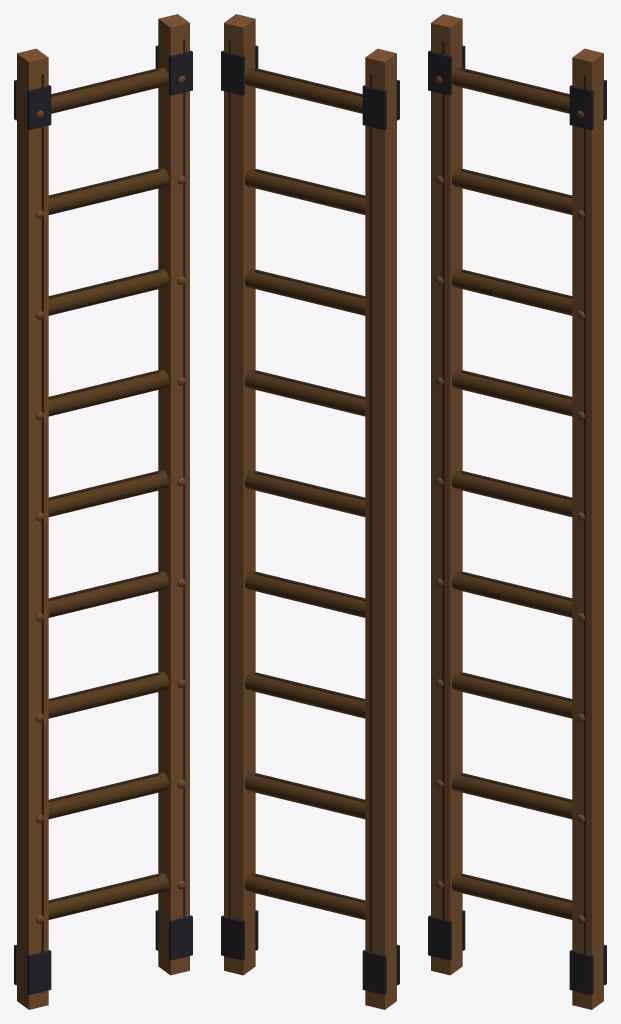
Rendered from mia-ladder.glb.
The picture shows the model from 3 angles, left to right: view 1: azimuth 30°, elevation 25°; view 2: azimuth 150°, elevation 25°; view 3: azimuth 330°, elevation 25°; orthographic projection.
Parts seen in each view (by area): view 1: Body_oak, Body_wood, Body_grain, Body_iron, Body_rust; view 2: Body_oak, Body_wood, Body_grain, Body_iron; view 3: Body_oak, Body_wood, Body_grain, Body_iron, Body_rust.
Boxes of the visible parts, x1,y1,x2,y2 form: Body_oak: (17, 14, 189, 1009); Body_wood: (48, 67, 169, 919); Body_grain: (41, 39, 185, 992); Body_iron: (14, 45, 192, 994); Body_rust: (36, 76, 185, 923); Body_oak: (224, 14, 396, 1009); Body_wood: (244, 67, 365, 919); Body_grain: (228, 39, 372, 992); Body_iron: (221, 45, 399, 994); Body_oak: (431, 14, 603, 1009); Body_wood: (451, 67, 572, 919); Body_grain: (442, 41, 585, 994); Body_iron: (428, 45, 606, 994); Body_rust: (435, 76, 584, 923).
Bounding box in the file's own units: 0.578 × 3.2 × 0.098.
